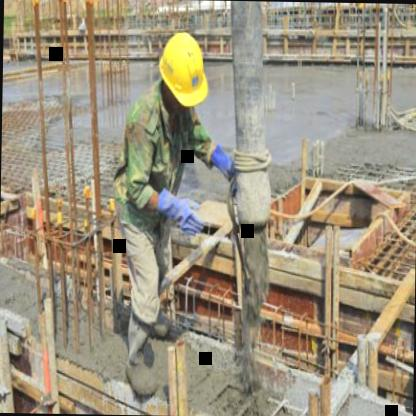helmet: (151, 19, 214, 134)
